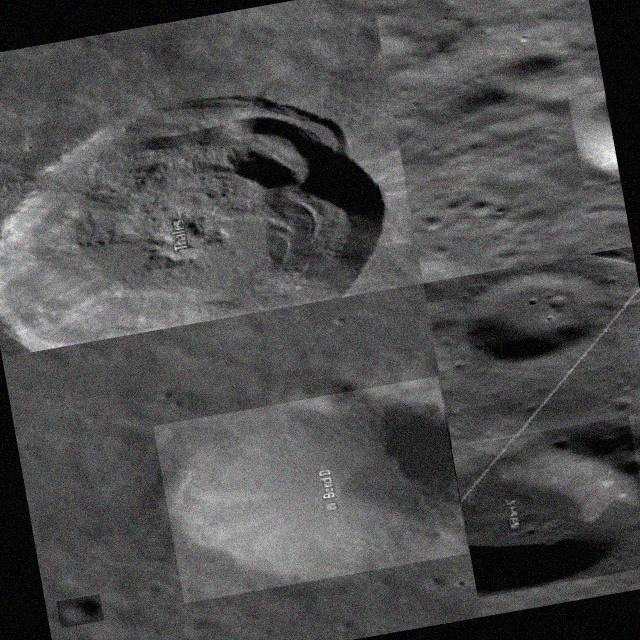crater: (0, 66, 400, 354), (153, 376, 469, 603), (451, 416, 640, 597), (458, 254, 618, 364), (568, 90, 619, 186), (56, 593, 104, 628), (634, 329, 640, 351)
